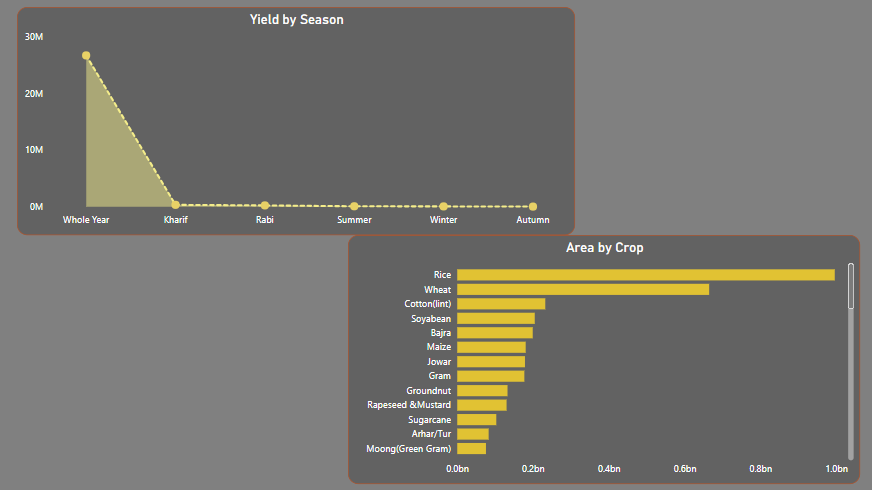

This screenshot's page, from the dashboard's own definition file:
{"tool":"powerbi","page":{"name":"Page 5","canvas":[1280,720],"ordinal":4},"visuals":[{"type":"clusteredBarChart","title":"Area by Crop","fields":{"Category":["India Crop Production.Crop"],"Y":["Sum(India Crop Production.Area)"]},"box":[514.5,344.9,735.8,357.8],"z":1000},{"type":"stackedAreaChart","title":"Yield by Season","fields":{"Category":["India Crop Production.Season"],"Y":["Sum(India Crop Production.Yield)"]},"box":[38.8,17.2,801.9,327.7],"z":2000}]}

Visuals, with their boxes in screenshot pixels (x1, y1, x2, y2), scaled from the page's 1280x720 canvas onto the 872x490 screenshot:
"Area by Crop" clusteredBarChart: 351:235:852:478
"Yield by Season" stackedAreaChart: 26:12:573:235
